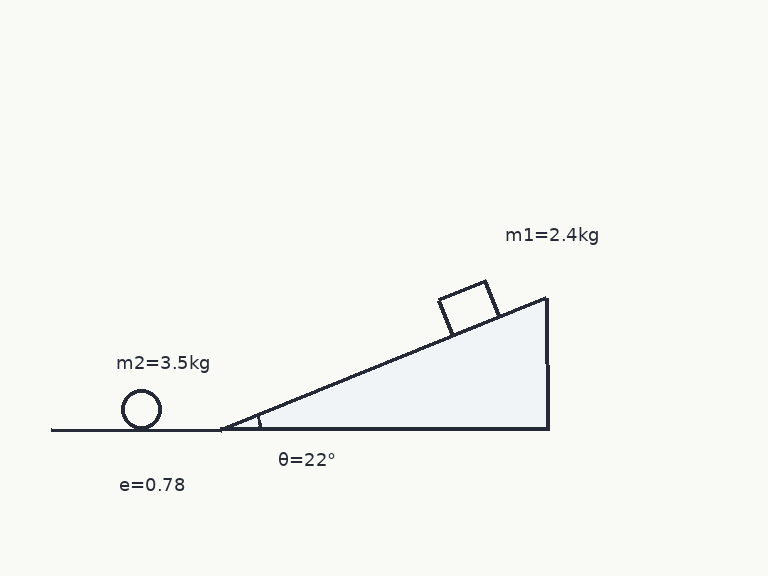ball: (119, 387, 163, 431)
block: (436, 279, 501, 337)
ramp: (218, 296, 547, 431)
